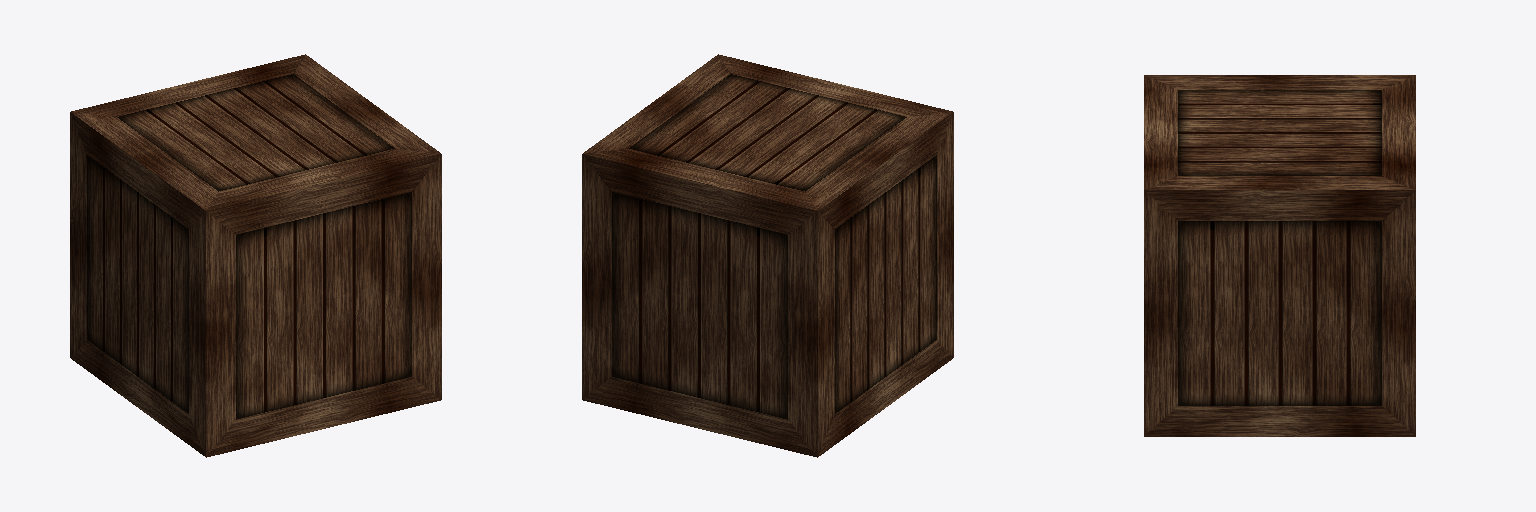
The picture shows the model from 3 angles: view 1: azimuth 30°, elevation 25°; view 2: azimuth 150°, elevation 25°; view 3: azimuth 270°, elevation 25°; orthographic projection.
Visible parts, largest first — view 1: Cube; view 2: Cube; view 3: Cube.
Part boxes in pixels (x1,y1,x2,y2): Cube: (70, 54, 441, 457); Cube: (582, 54, 953, 457); Cube: (1144, 75, 1415, 436).
Size of the model in its own units: 2 by 2 by 2.
1 materials, 1 textured.